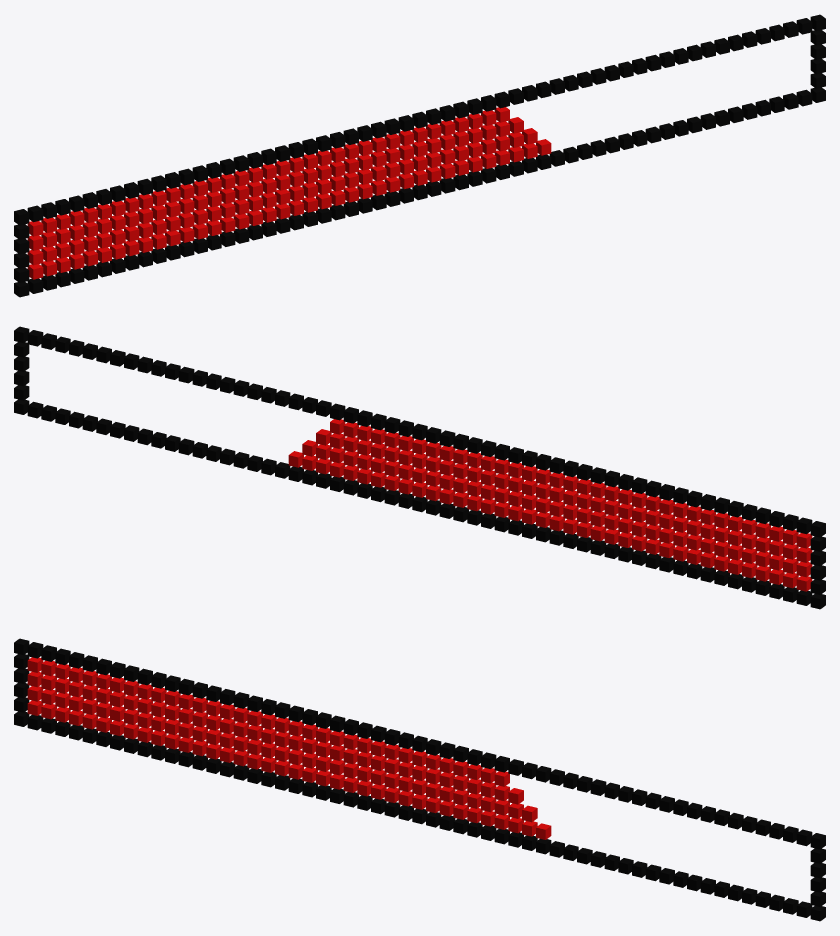
The model's file is BarSecond.fbx.
3 views of the same model, one above another, from view 1: azimuth 30°, elevation 25°; view 2: azimuth 150°, elevation 25°; view 3: azimuth 330°, elevation 25° (orthographic).
Visible parts, largest first — view 1: ProgressBarSecond; view 2: ProgressBarSecond; view 3: ProgressBarSecond.
Boxes of the visible parts, box(x1,y1,x2,y2) form: ProgressBarSecond: box(14, 14, 825, 297); ProgressBarSecond: box(14, 326, 825, 609); ProgressBarSecond: box(14, 638, 825, 921).
Size of the model in its own units: 82.2 by 8 by 1.
